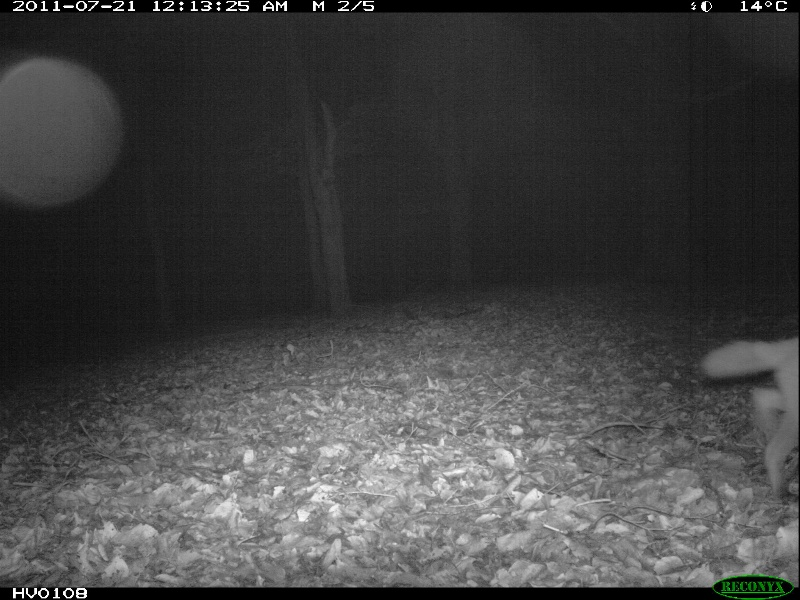fox: (706, 337, 800, 499)
